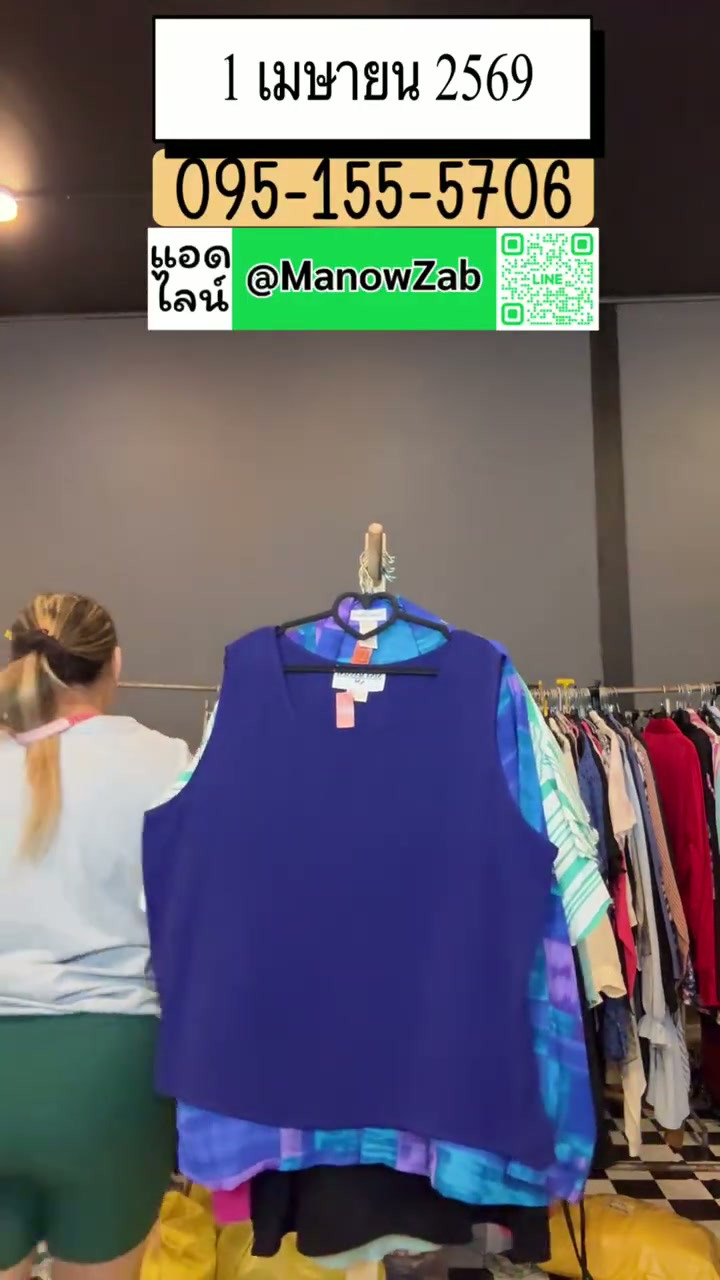display_shirt: (144, 628, 554, 1171)
